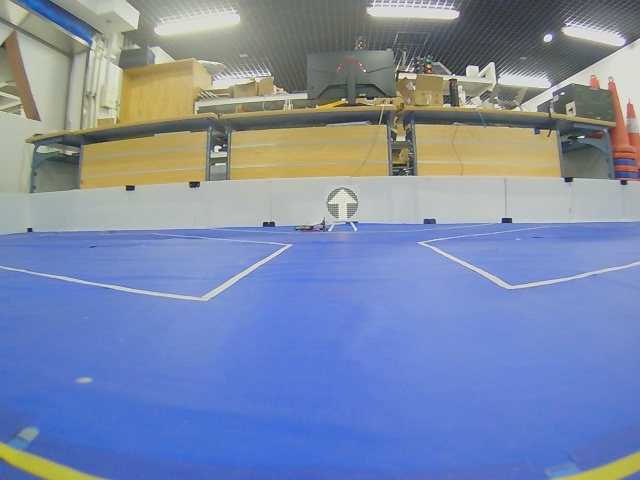straight_yellow: (327, 187, 358, 221)
